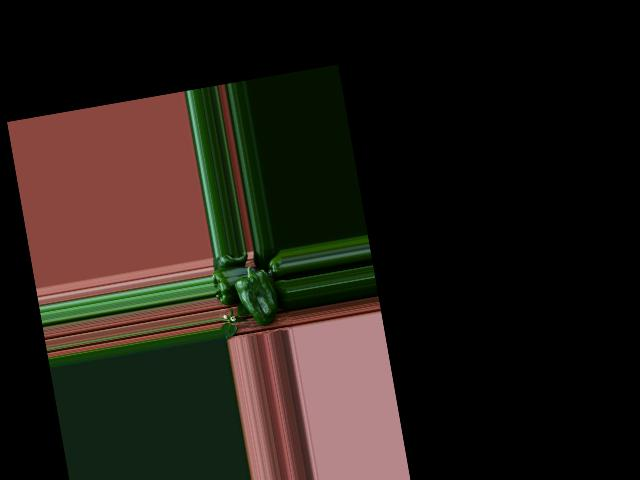bell_pepper: (262, 249, 285, 277)
